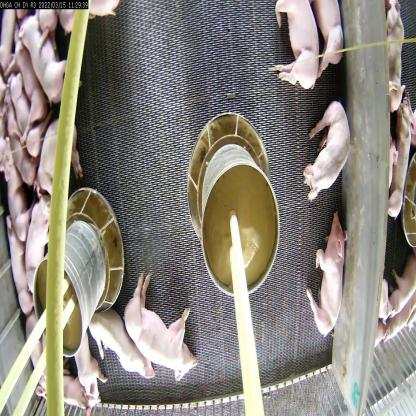Pig: (119, 268, 201, 386), (300, 202, 350, 340), (27, 105, 84, 200), (83, 312, 152, 387), (18, 10, 72, 104), (303, 101, 351, 205), (273, 0, 319, 96), (1, 218, 43, 318), (10, 36, 50, 140), (0, 139, 38, 243), (19, 192, 58, 292), (65, 319, 105, 411), (386, 84, 413, 216), (376, 1, 406, 112), (6, 80, 52, 149), (311, 0, 347, 72), (6, 110, 40, 186), (26, 322, 56, 400), (47, 376, 89, 415)
